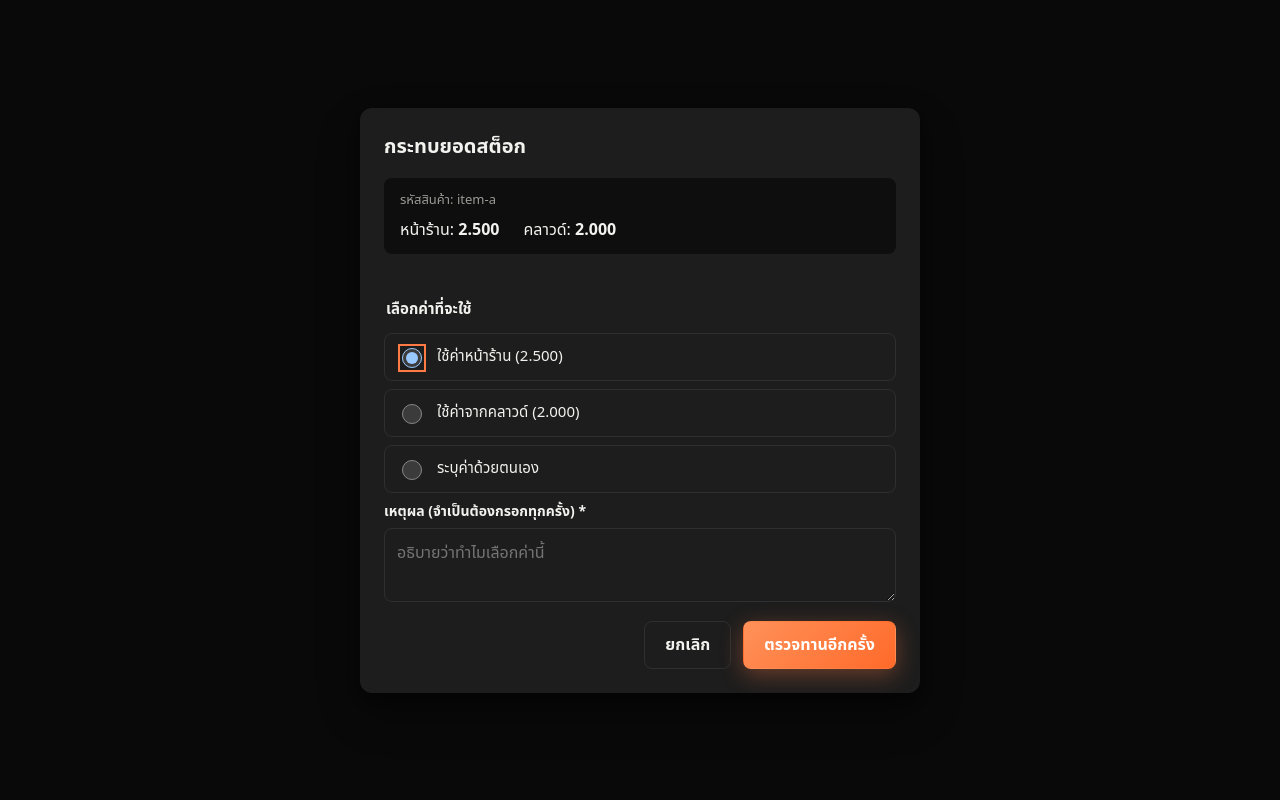
ReconciliationOverlay › rejects an invalid custom quantity and does not advance
Click the radio button labelled "ระบุค่าด้วยตนเอง": point(412, 470) 402,460 -> 422,480
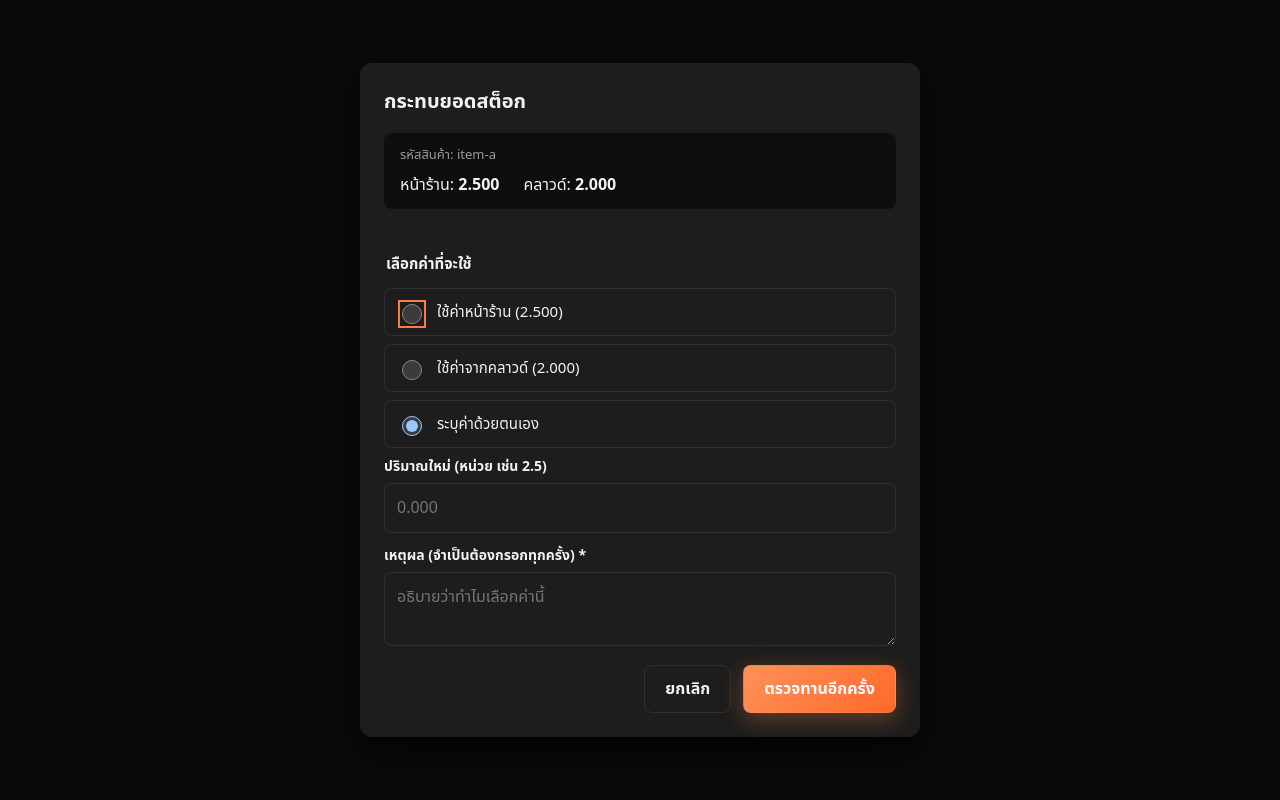
In the field labelled "ปริมาณใหม่ (หน่วย เช่น 2.5)": point(640, 508) 384,483 -> 896,533, type "-1"
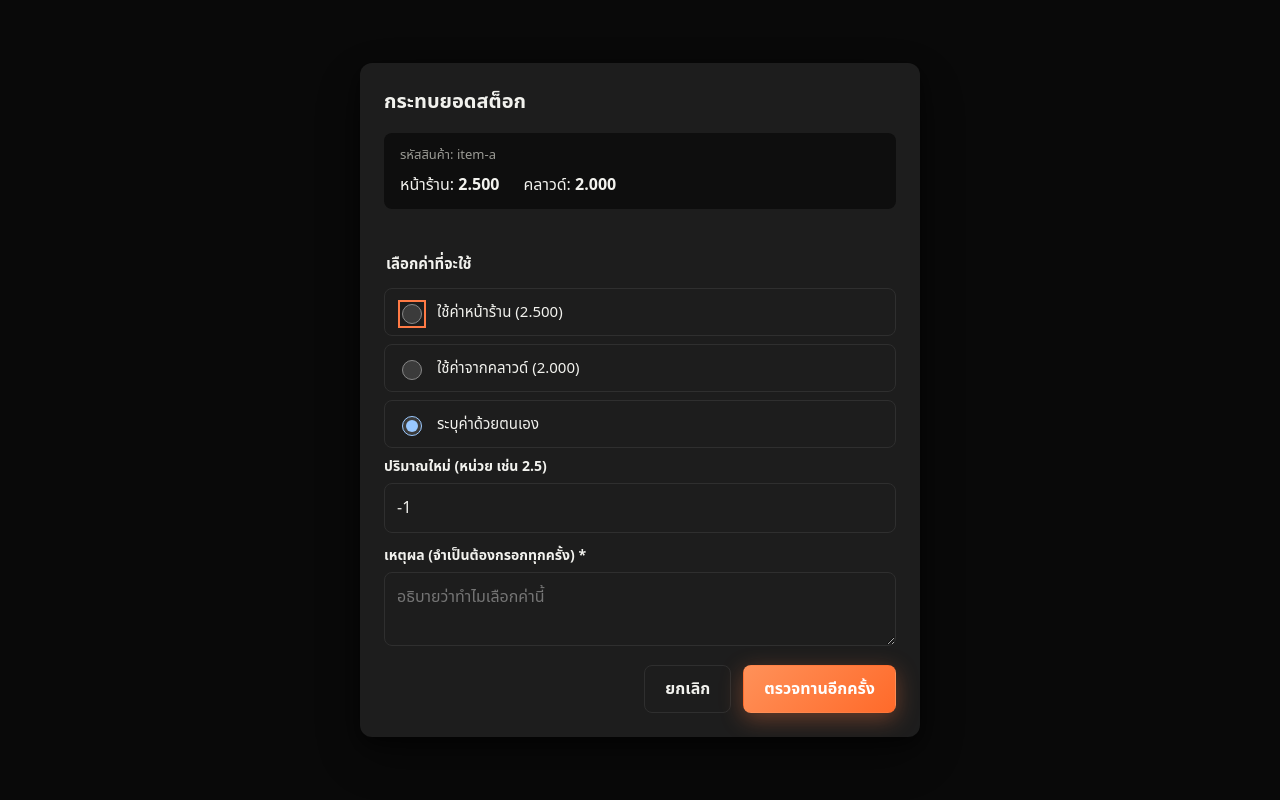
In the text box labelled "เหตุผล (จำเป็นต้องกรอกทุกครั้ง) *": point(640, 609) 384,572 -> 896,646, type "นับ"
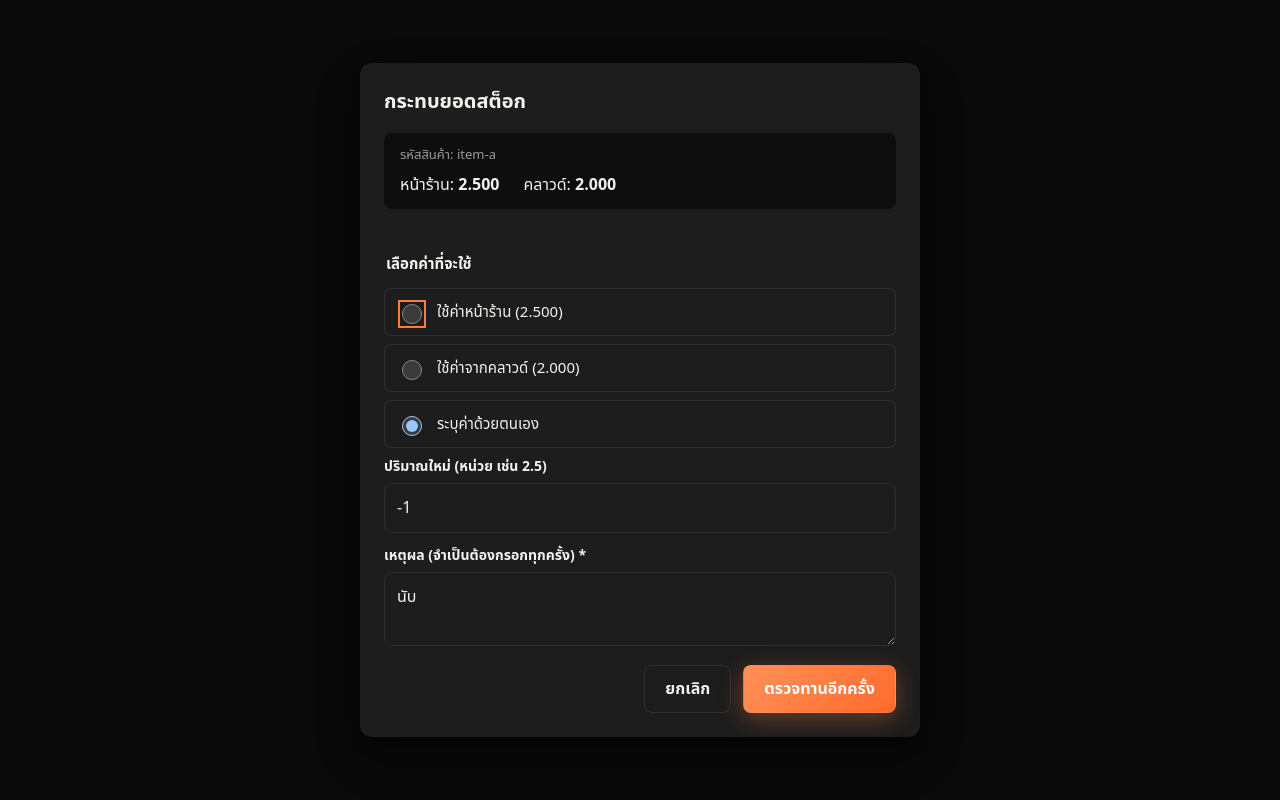
Click the button "ตรวจทานอีกครั้ง": point(820, 689) 743,665 -> 896,713
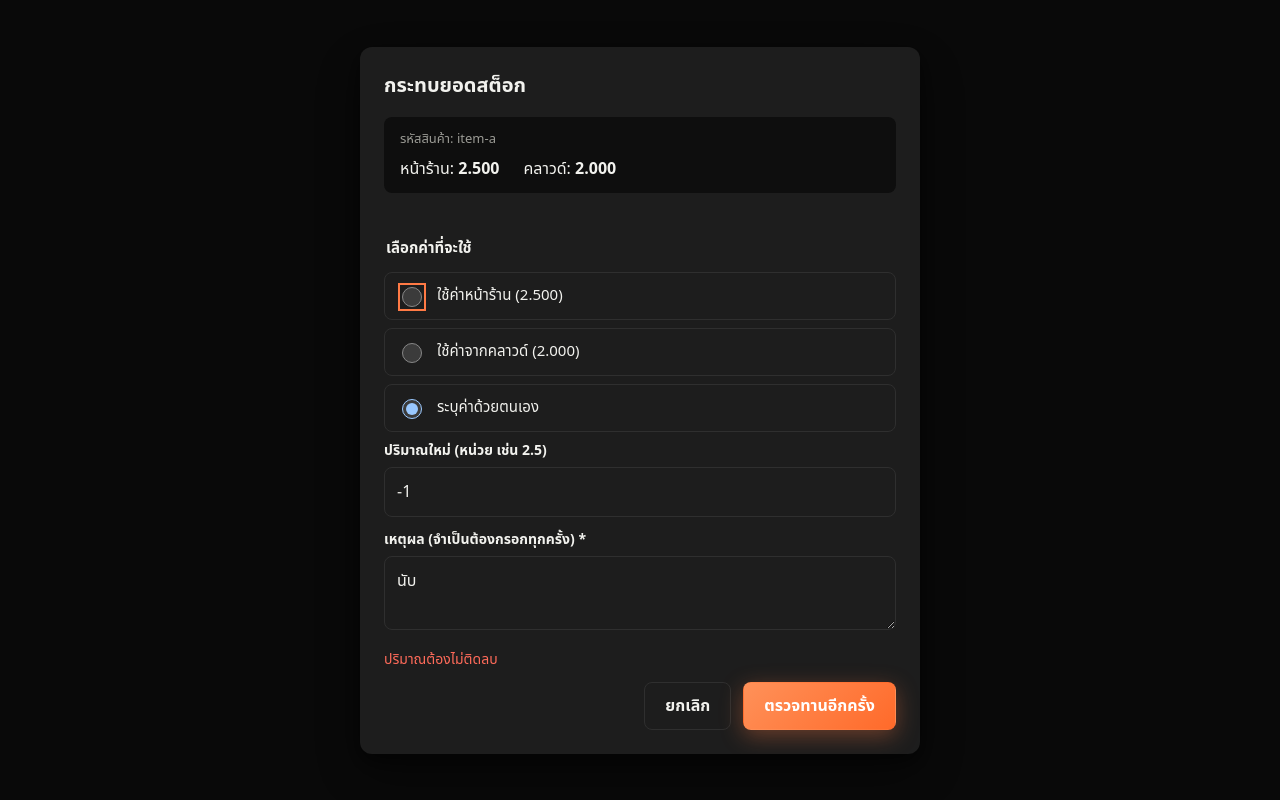
Expected: the message "ปริมาณต้องไม่ติดลบ" is shown, 384,648 -> 498,670
